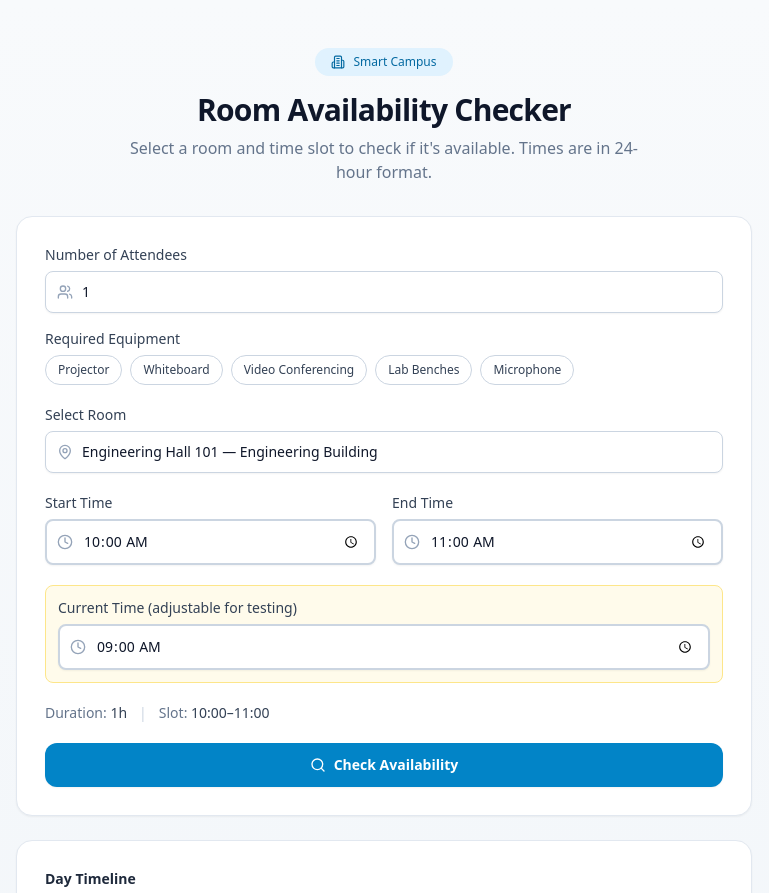
Test: room switching › shows only the selected room's bookings
Select "Science Lab 3 — Science Complex" in the dropdown labelled "Select Room": (384, 452) [45,431,723,473]
(page scrolled)
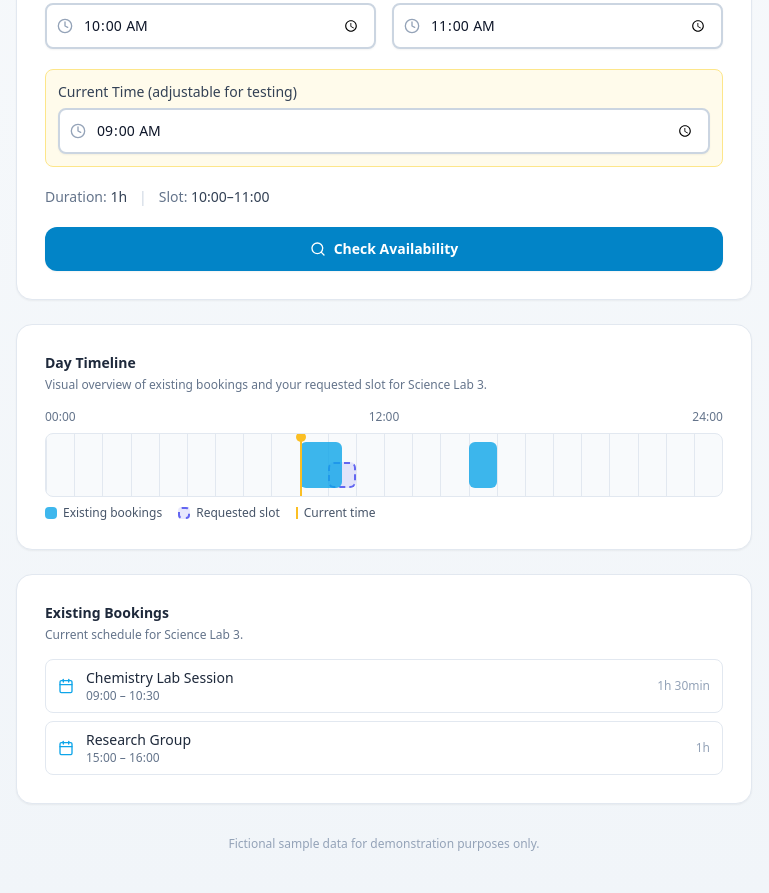
Expected: the text "Chemistry Lab Session" is shown, [86,668,234,687]
